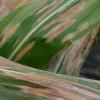Corn leaf blight: (0, 0, 100, 60), (0, 57, 99, 99)
